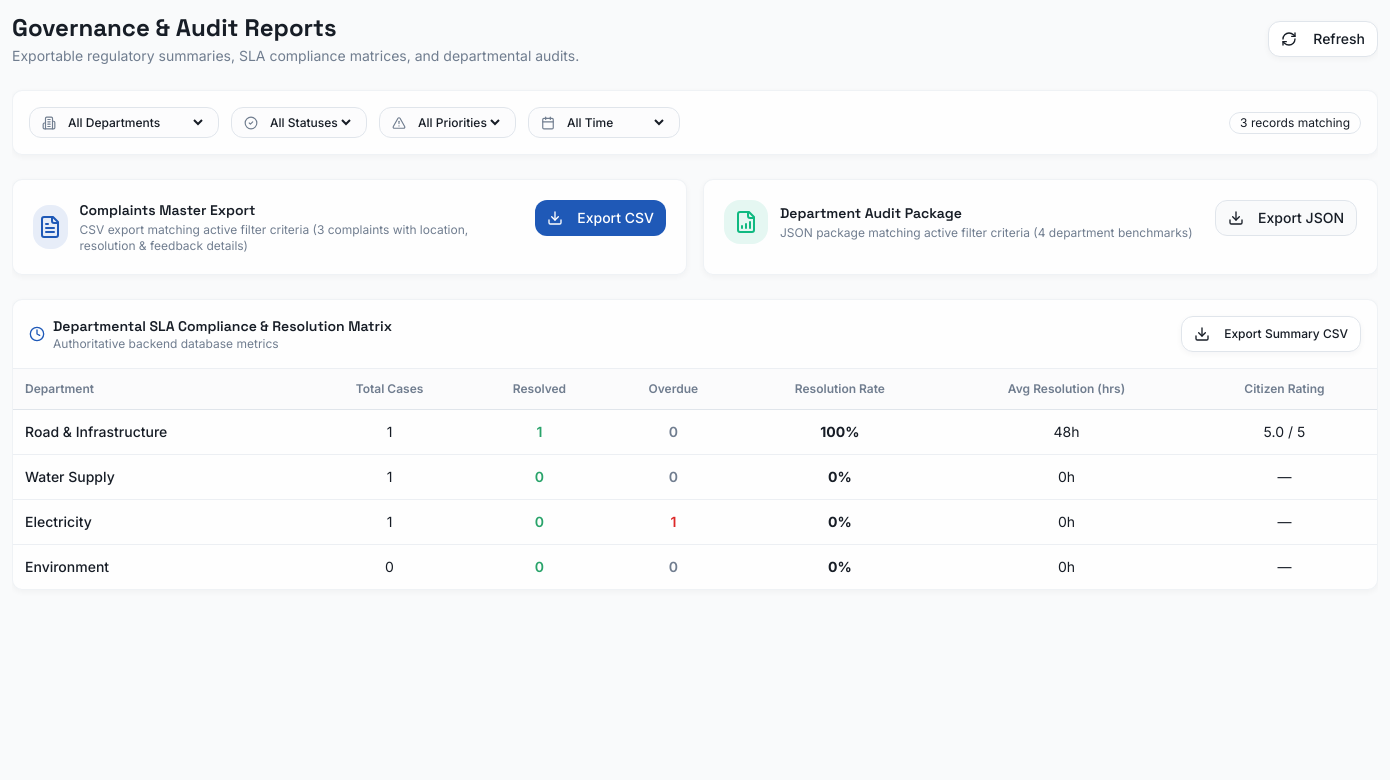
AdminReports Interactive Filtering & Export Suite (Phase 5F) › filters by department correctly
Expected: the text "3 records matching" is shown, top-left (1229, 112), bottom-right (1361, 134)
Select "Water Supply" in the dropdown named "Department Filter" at (135, 122), box top-left (64, 114), bottom-right (206, 131)
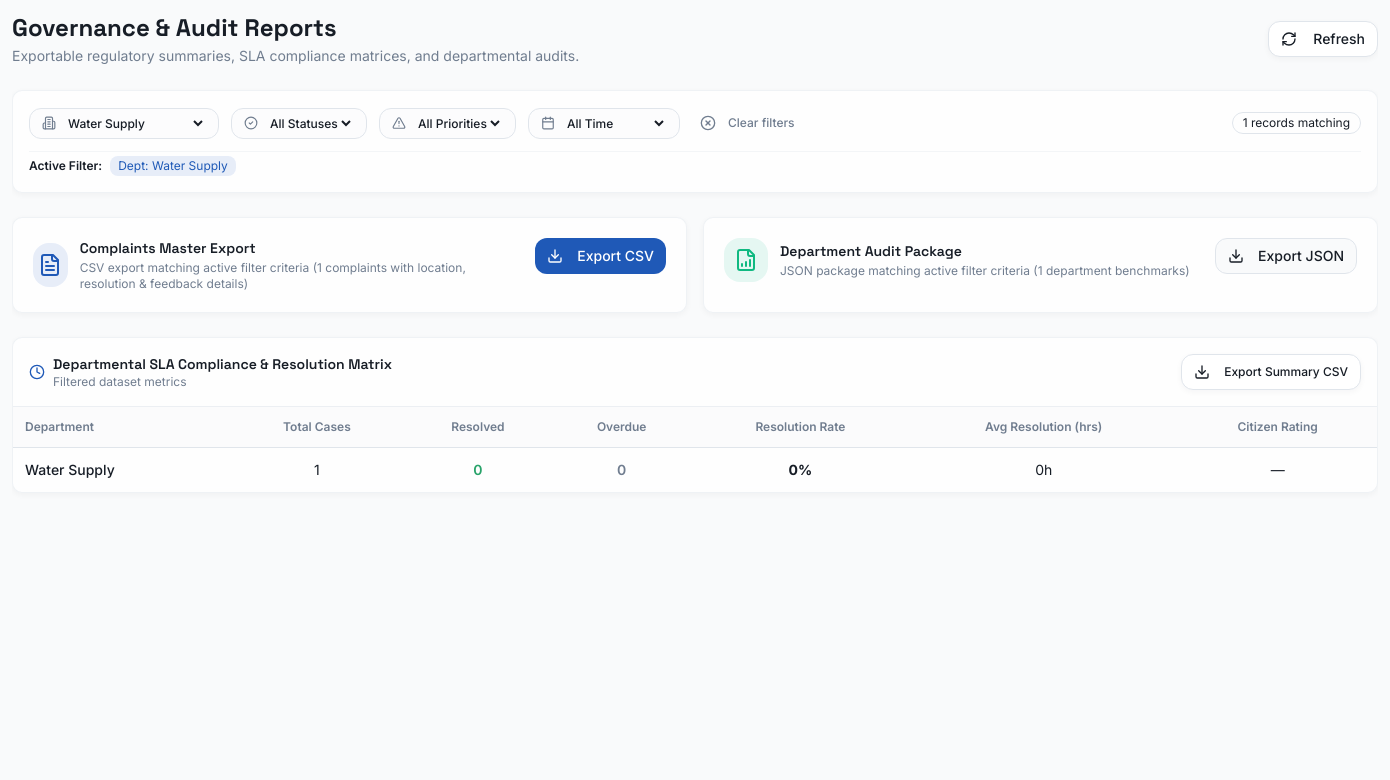
Now the text "1 records matching" is shown, box top-left (1232, 112), bottom-right (1361, 134)
Now the text "Dept: Water Supply" is shown, box top-left (110, 156), bottom-right (236, 176)
